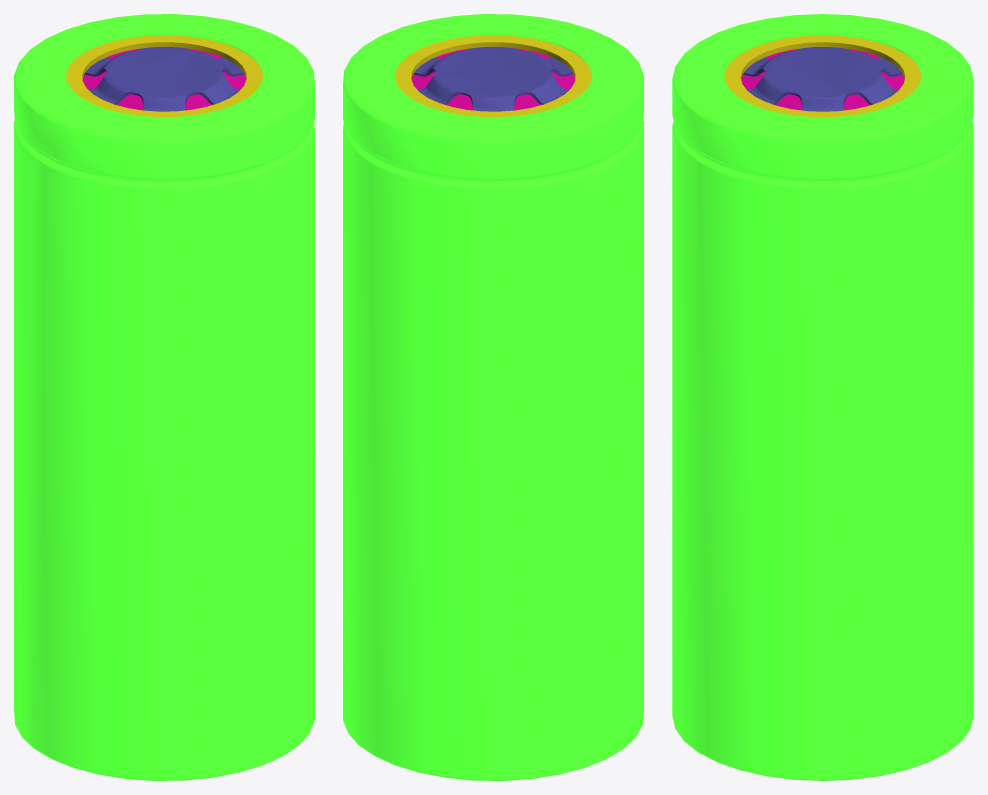
File: battery.gltf
The picture shows the model from 3 angles, left to right: view 1: azimuth 30°, elevation 25°; view 2: azimuth 150°, elevation 25°; view 3: azimuth 270°, elevation 25°; orthographic projection.
Parts seen in each view (by area): view 1: Battery; view 2: Battery; view 3: Battery.
Boxes of the visible parts, x1,y1,x2,y2 form: Battery: [14, 14, 314, 780]; Battery: [343, 14, 643, 780]; Battery: [672, 14, 973, 780].
Size of the model in its own units: 0.1647 by 0.39 by 0.1647.
